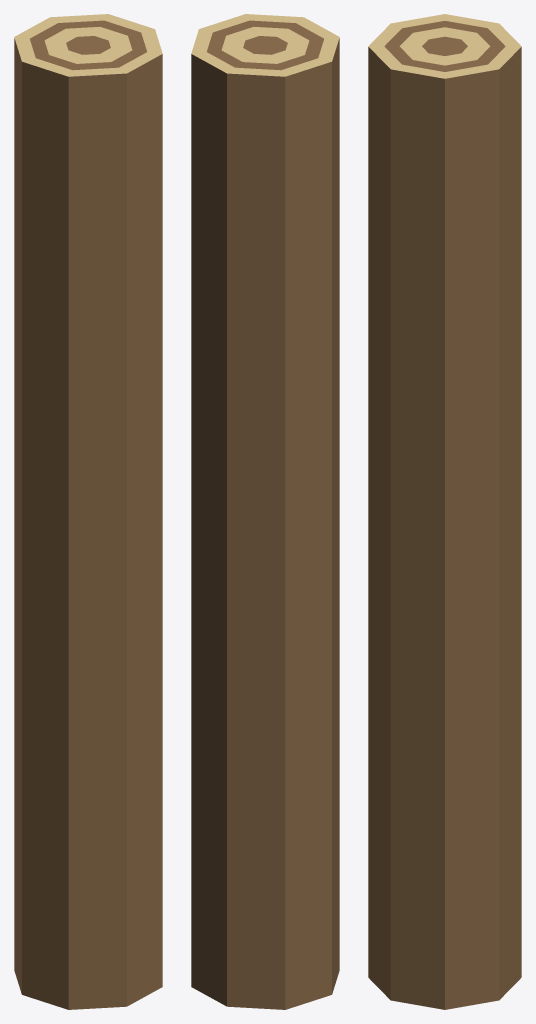
The model's file is wooden.fbx.
3 renders of one model, left to right at view 1: azimuth 30°, elevation 25°; view 2: azimuth 150°, elevation 25°; view 3: azimuth 270°, elevation 25°, orthographic.
Parts seen in each view (by area): view 1: Cylinder; view 2: Cylinder; view 3: Cylinder.
Boxes of the visible parts, x1,y1,x2,y2 form: Cylinder: (14,14,162,1009); Cylinder: (191,14,339,1009); Cylinder: (368,14,521,1009).
Bounding box in the file's own units: 200 × 1339 × 200.
